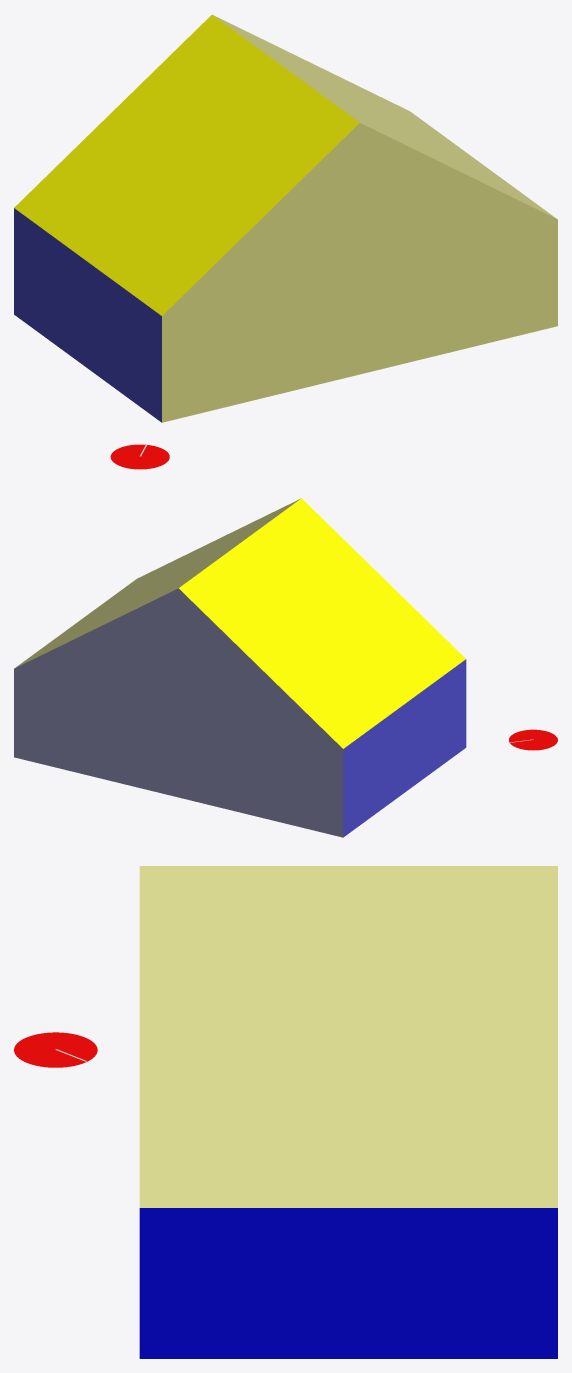
Rendered from result.glb.
The picture shows the model from 3 angles, top to bottom: view 1: azimuth 30°, elevation 25°; view 2: azimuth 150°, elevation 25°; view 3: azimuth 270°, elevation 25°; orthographic projection. The views are drawn at different scales.
Visible parts, largest first — view 1: e3f44d9d-d3c7-4581-9f11-e9e25d538955__undefined, 34d1afd0-82ba-4dd6-9e20-782a443dbc95__undefined, ea0124d4-16c2-4849-88f8-cba74282279d__undefined, 39ca2ba1-df5a-4024-9204-0a9019df79b0__undefined, d498bc83-d01c-430c-a88f-3c30fbd6e3d3__Circle; view 2: 17a06b45-31f5-47bb-86a9-e9311c899bce__undefined, 34d1afd0-82ba-4dd6-9e20-782a443dbc95__undefined, ea0124d4-16c2-4849-88f8-cba74282279d__undefined, 39ca2ba1-df5a-4024-9204-0a9019df79b0__undefined, d498bc83-d01c-430c-a88f-3c30fbd6e3d3__Circle; view 3: 39ca2ba1-df5a-4024-9204-0a9019df79b0__undefined, bb2eb2be-6697-4e88-a760-57b58ba14010__undefined, d498bc83-d01c-430c-a88f-3c30fbd6e3d3__Circle.
Boxes of the visible parts, <box> form: e3f44d9d-d3c7-4581-9f11-e9e25d538955__undefined: <box>162,123,557,422</box>; 34d1afd0-82ba-4dd6-9e20-782a443dbc95__undefined: <box>14,14,359,315</box>; ea0124d4-16c2-4849-88f8-cba74282279d__undefined: <box>14,208,161,422</box>; 39ca2ba1-df5a-4024-9204-0a9019df79b0__undefined: <box>213,15,556,218</box>; d498bc83-d01c-430c-a88f-3c30fbd6e3d3__Circle: <box>110,444,169,469</box>; 17a06b45-31f5-47bb-86a9-e9311c899bce__undefined: <box>14,588,343,837</box>; 34d1afd0-82ba-4dd6-9e20-782a443dbc95__undefined: <box>179,498,465,748</box>; ea0124d4-16c2-4849-88f8-cba74282279d__undefined: <box>343,659,466,837</box>; 39ca2ba1-df5a-4024-9204-0a9019df79b0__undefined: <box>14,499,299,668</box>; d498bc83-d01c-430c-a88f-3c30fbd6e3d3__Circle: <box>509,729,557,750</box>; 39ca2ba1-df5a-4024-9204-0a9019df79b0__undefined: <box>139,866,557,1207</box>; bb2eb2be-6697-4e88-a760-57b58ba14010__undefined: <box>139,1208,557,1358</box>; d498bc83-d01c-430c-a88f-3c30fbd6e3d3__Circle: <box>14,1032,97,1067</box>.
Size of the model in its own units: 923 by 469 by 650.
